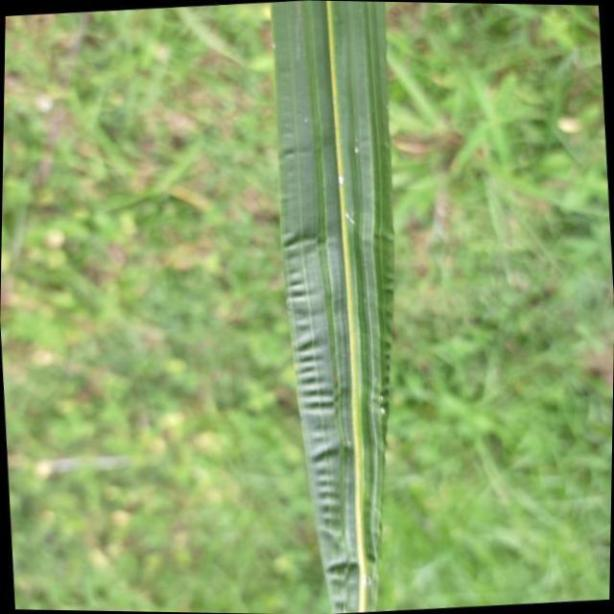Boron: (272, 3, 390, 614)
